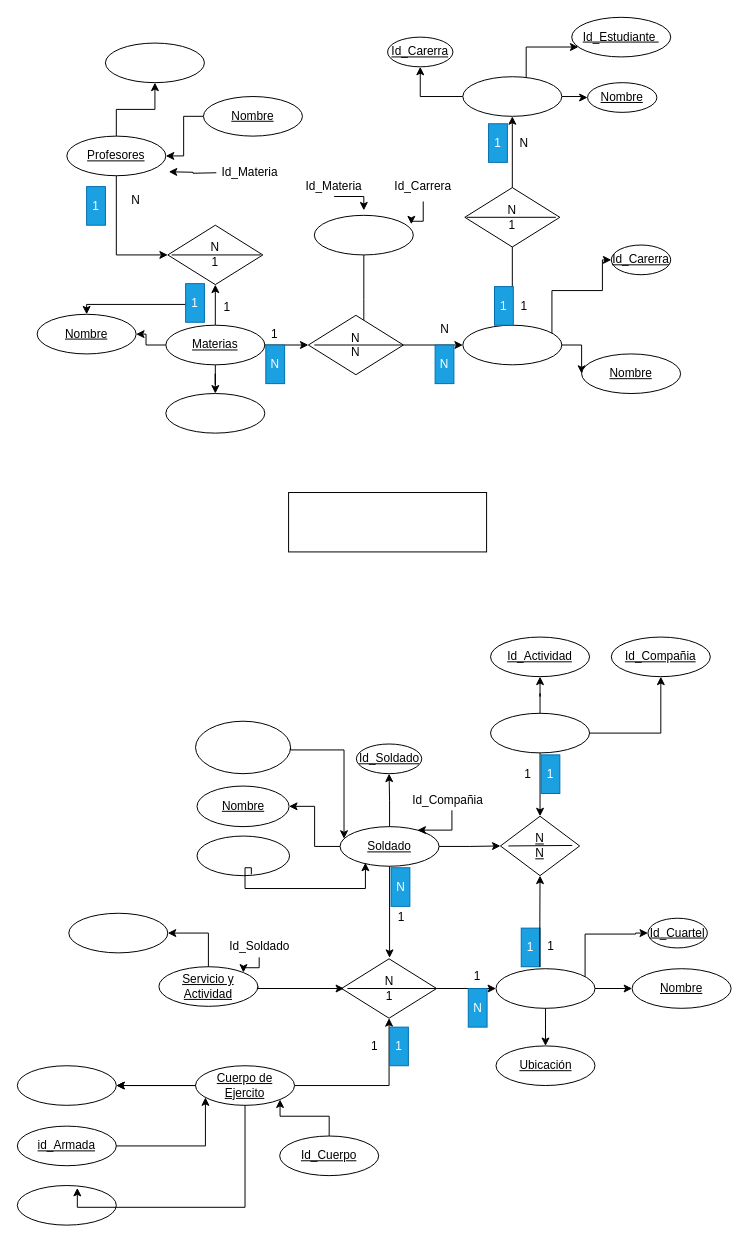
This 748x1242 diagram has some shape labels left out. Here are the shapes that lost their labels. From the top down, the centre of each, then its label:
At (154,62): "Id_Profe".
At (512,96): "Estudiante".
At (363,234): "Materias Carrera".
At (512,344): "Carrera".
At (215,413): "Id_Materias".
At (387,522): "Entity relations".
At (243,747): "Id_Grado".
At (540,732): "Compañia".
At (243,855): "Apellido".
At (118,932): "id_Servicio".
At (545,988): "Cuartel".
At (66,1085): "id_Infanteria".
At (66,1205): "id_Artillería".
